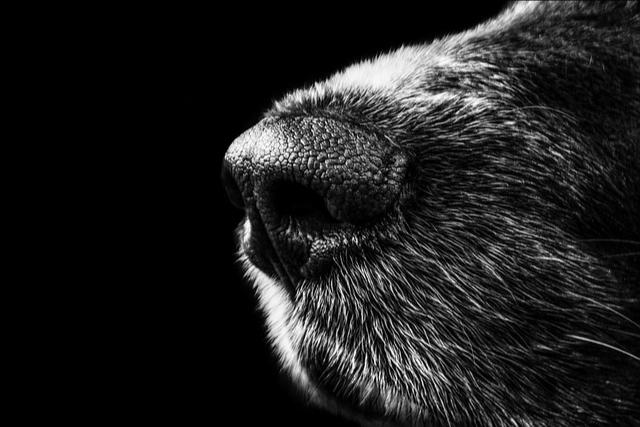Non_Gorille: (70, 16, 640, 411)
